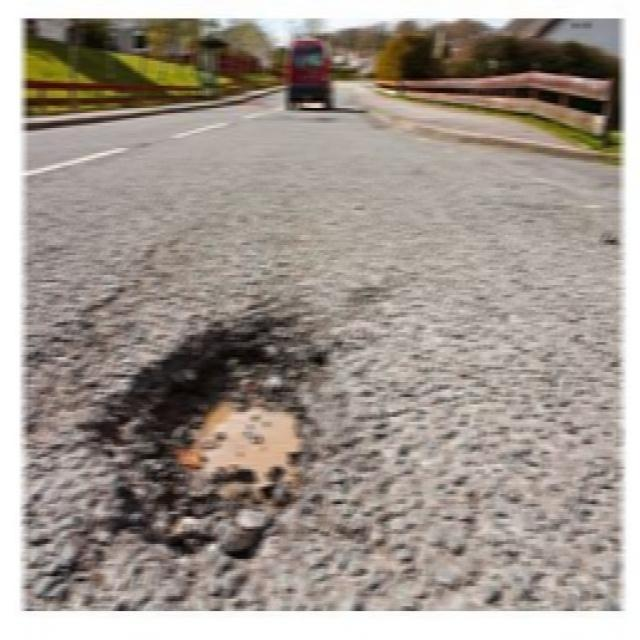Pothole: (84, 293, 354, 573)
